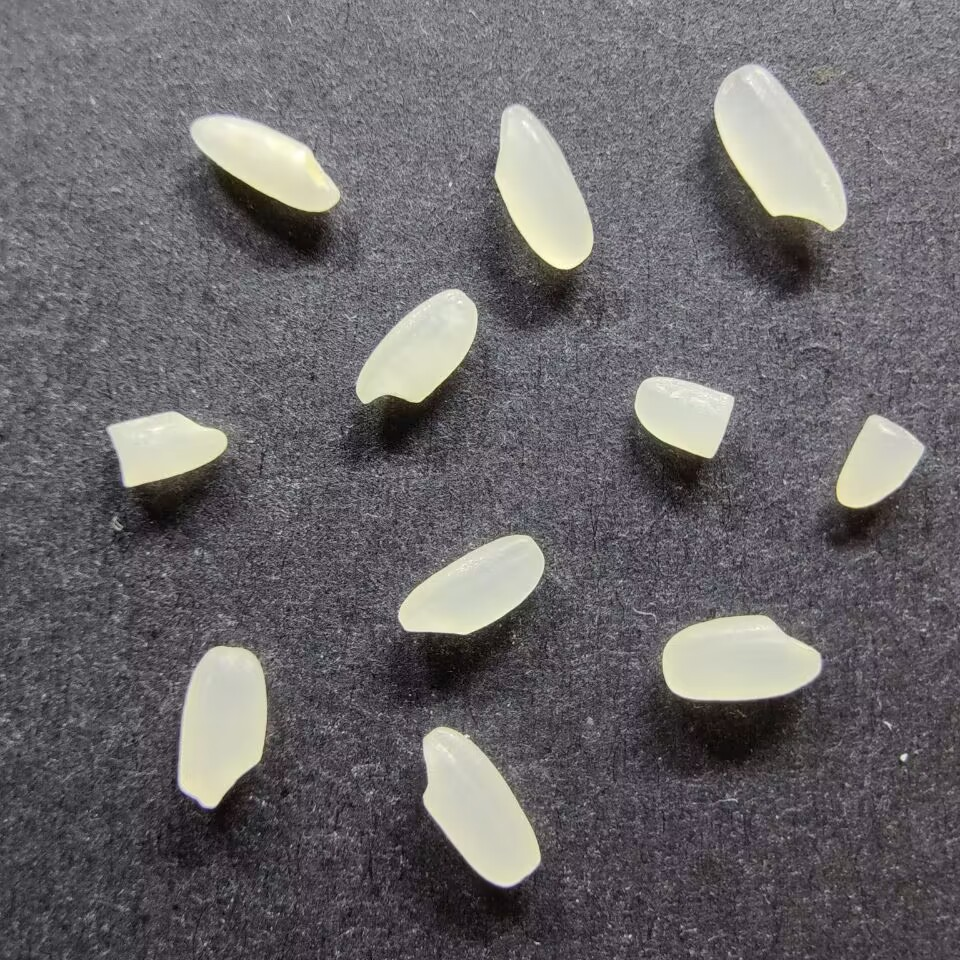broken: (105, 409, 228, 489), (634, 373, 736, 459), (835, 413, 926, 509)
rice: (712, 62, 849, 233), (420, 724, 540, 890), (493, 104, 597, 270), (186, 111, 342, 213), (395, 533, 545, 638), (175, 643, 267, 813), (352, 286, 478, 406), (660, 612, 825, 702)
